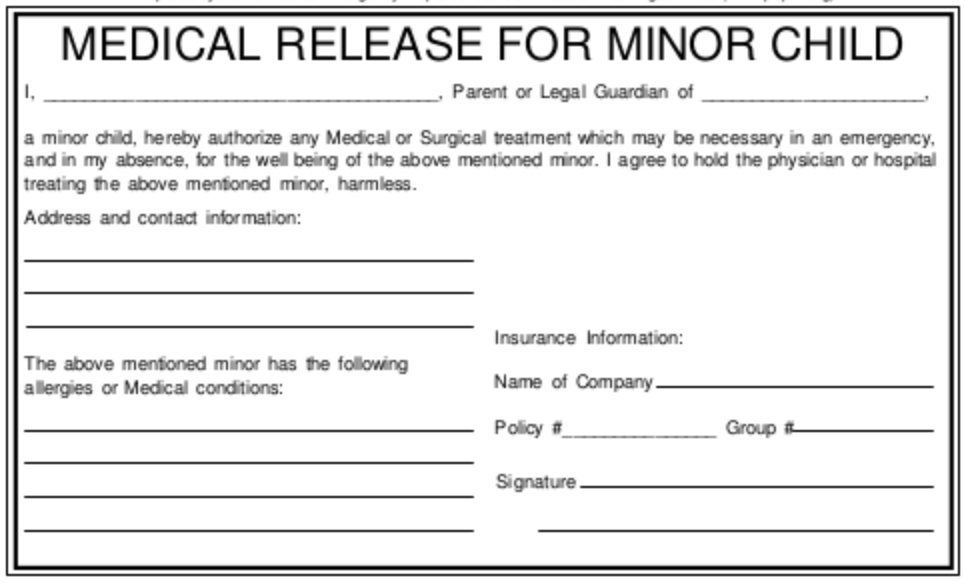textline: (22, 509, 483, 544), (20, 239, 485, 273), (36, 82, 442, 113), (22, 444, 483, 471), (21, 480, 482, 505), (21, 416, 481, 440), (576, 467, 939, 495), (22, 311, 482, 333), (20, 280, 478, 302), (531, 519, 945, 538), (649, 370, 941, 395), (558, 415, 719, 442), (698, 89, 941, 106), (792, 418, 943, 442)
